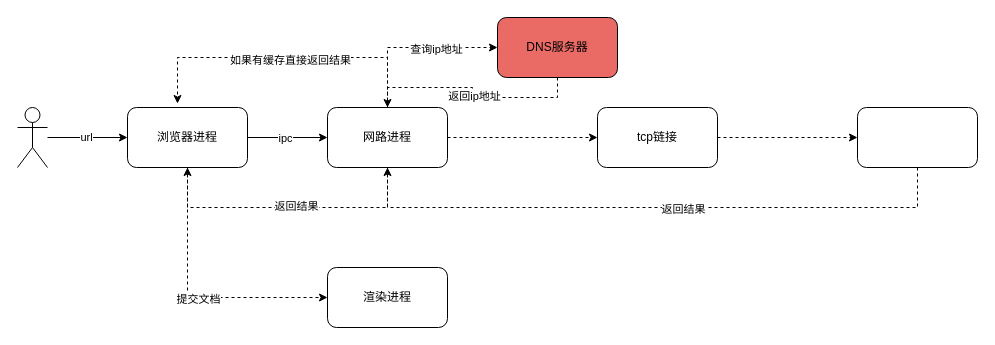
Some shapes in this 995 by 345 pixel diagram are drawn without their labels. Here are the shapes that lost their labels. From the top down, the centre of each, then its label:
the point at 32,137: Actor
the point at 917,137: 服务器
